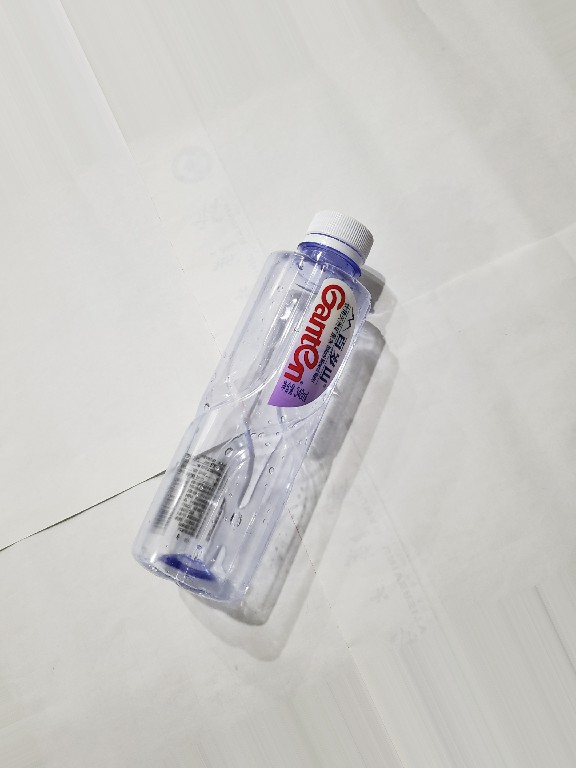bottle: (127, 205, 382, 632)
